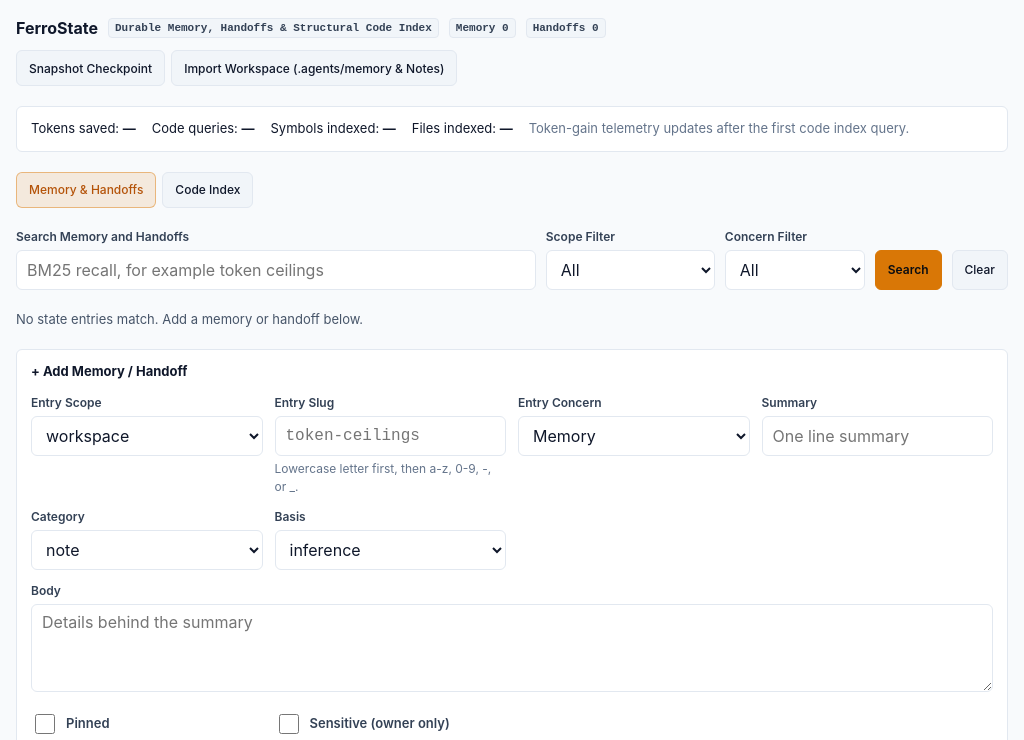
Test: FerroStatePane search ordering › keeps the newest query's results when an older response arrives late
Type "older" into the search field with placeholder "BM25 recall, for example token ceilings" at (276, 270), box [16,250,536,290]
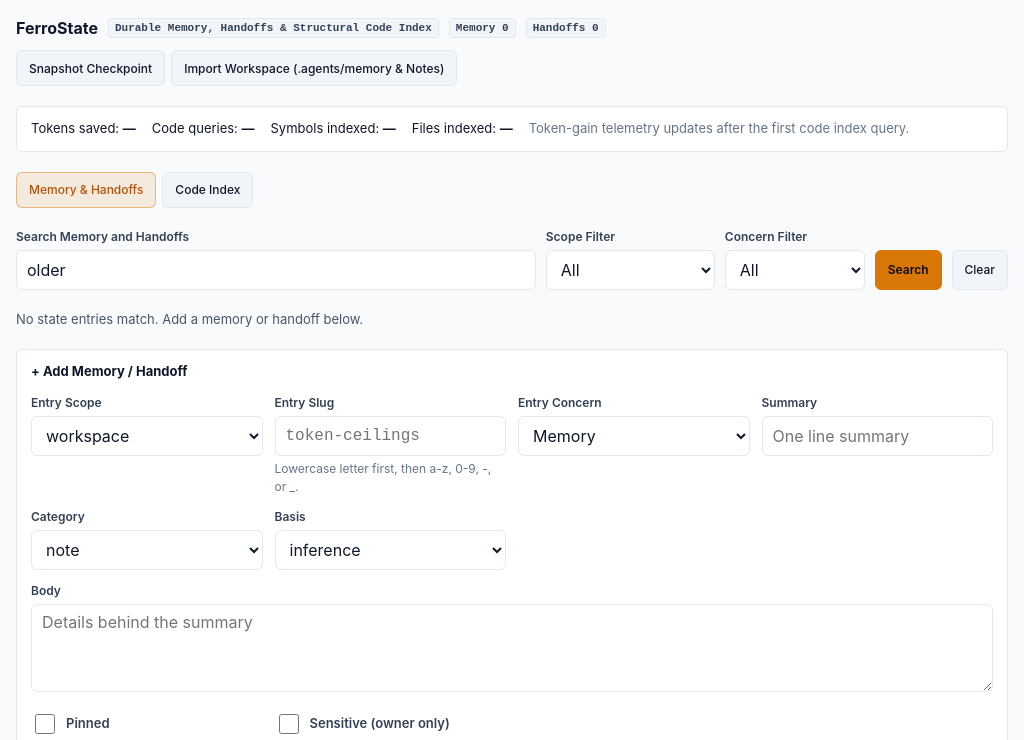
Click the button "Search" at (908, 270), box [875,250,942,290]
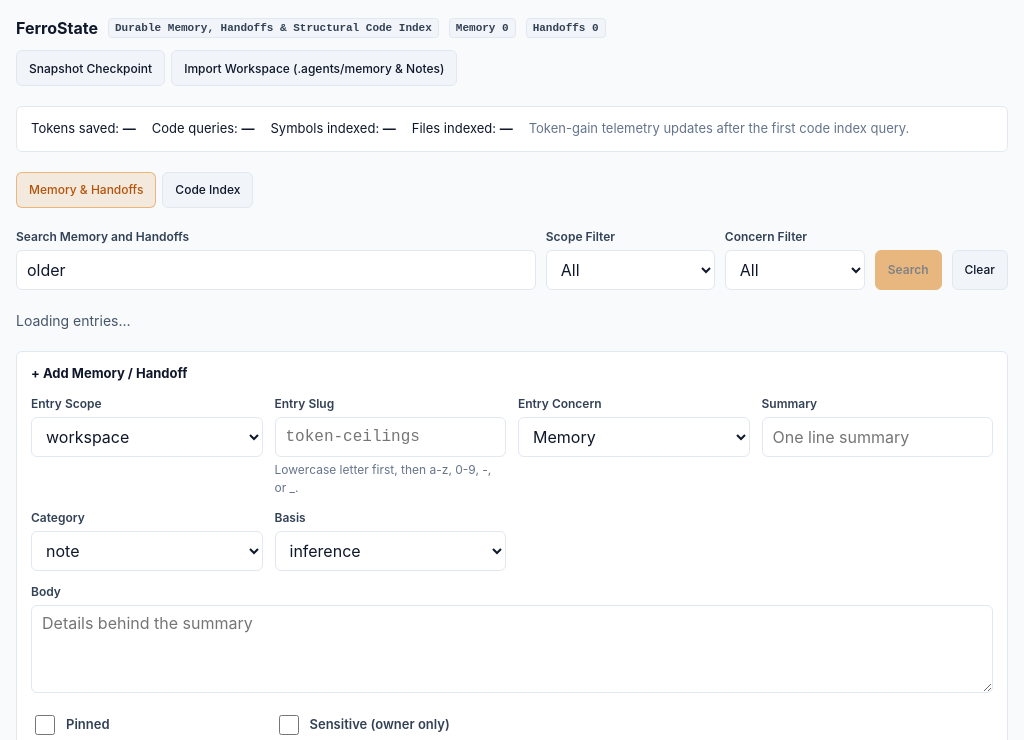
Select "memory" in the dropdown labelled "Concern Filter" at (795, 270), box [725,250,865,290]
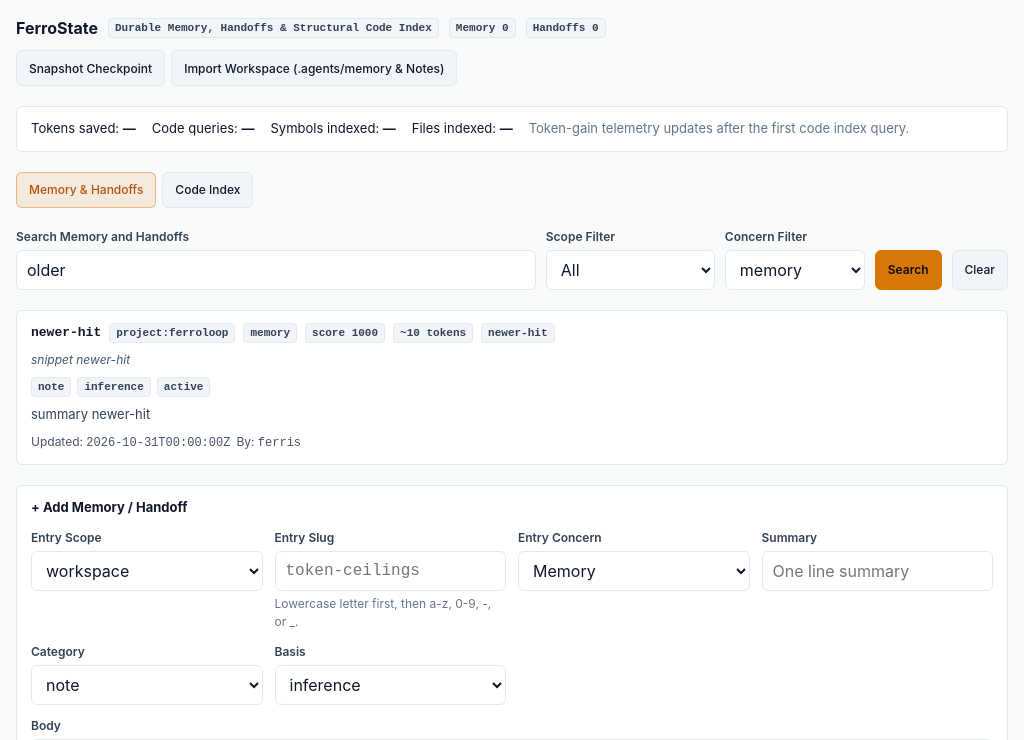
Expected: the element with test id "state-entry-newer-hit" is shown, [16,310,1008,465]
